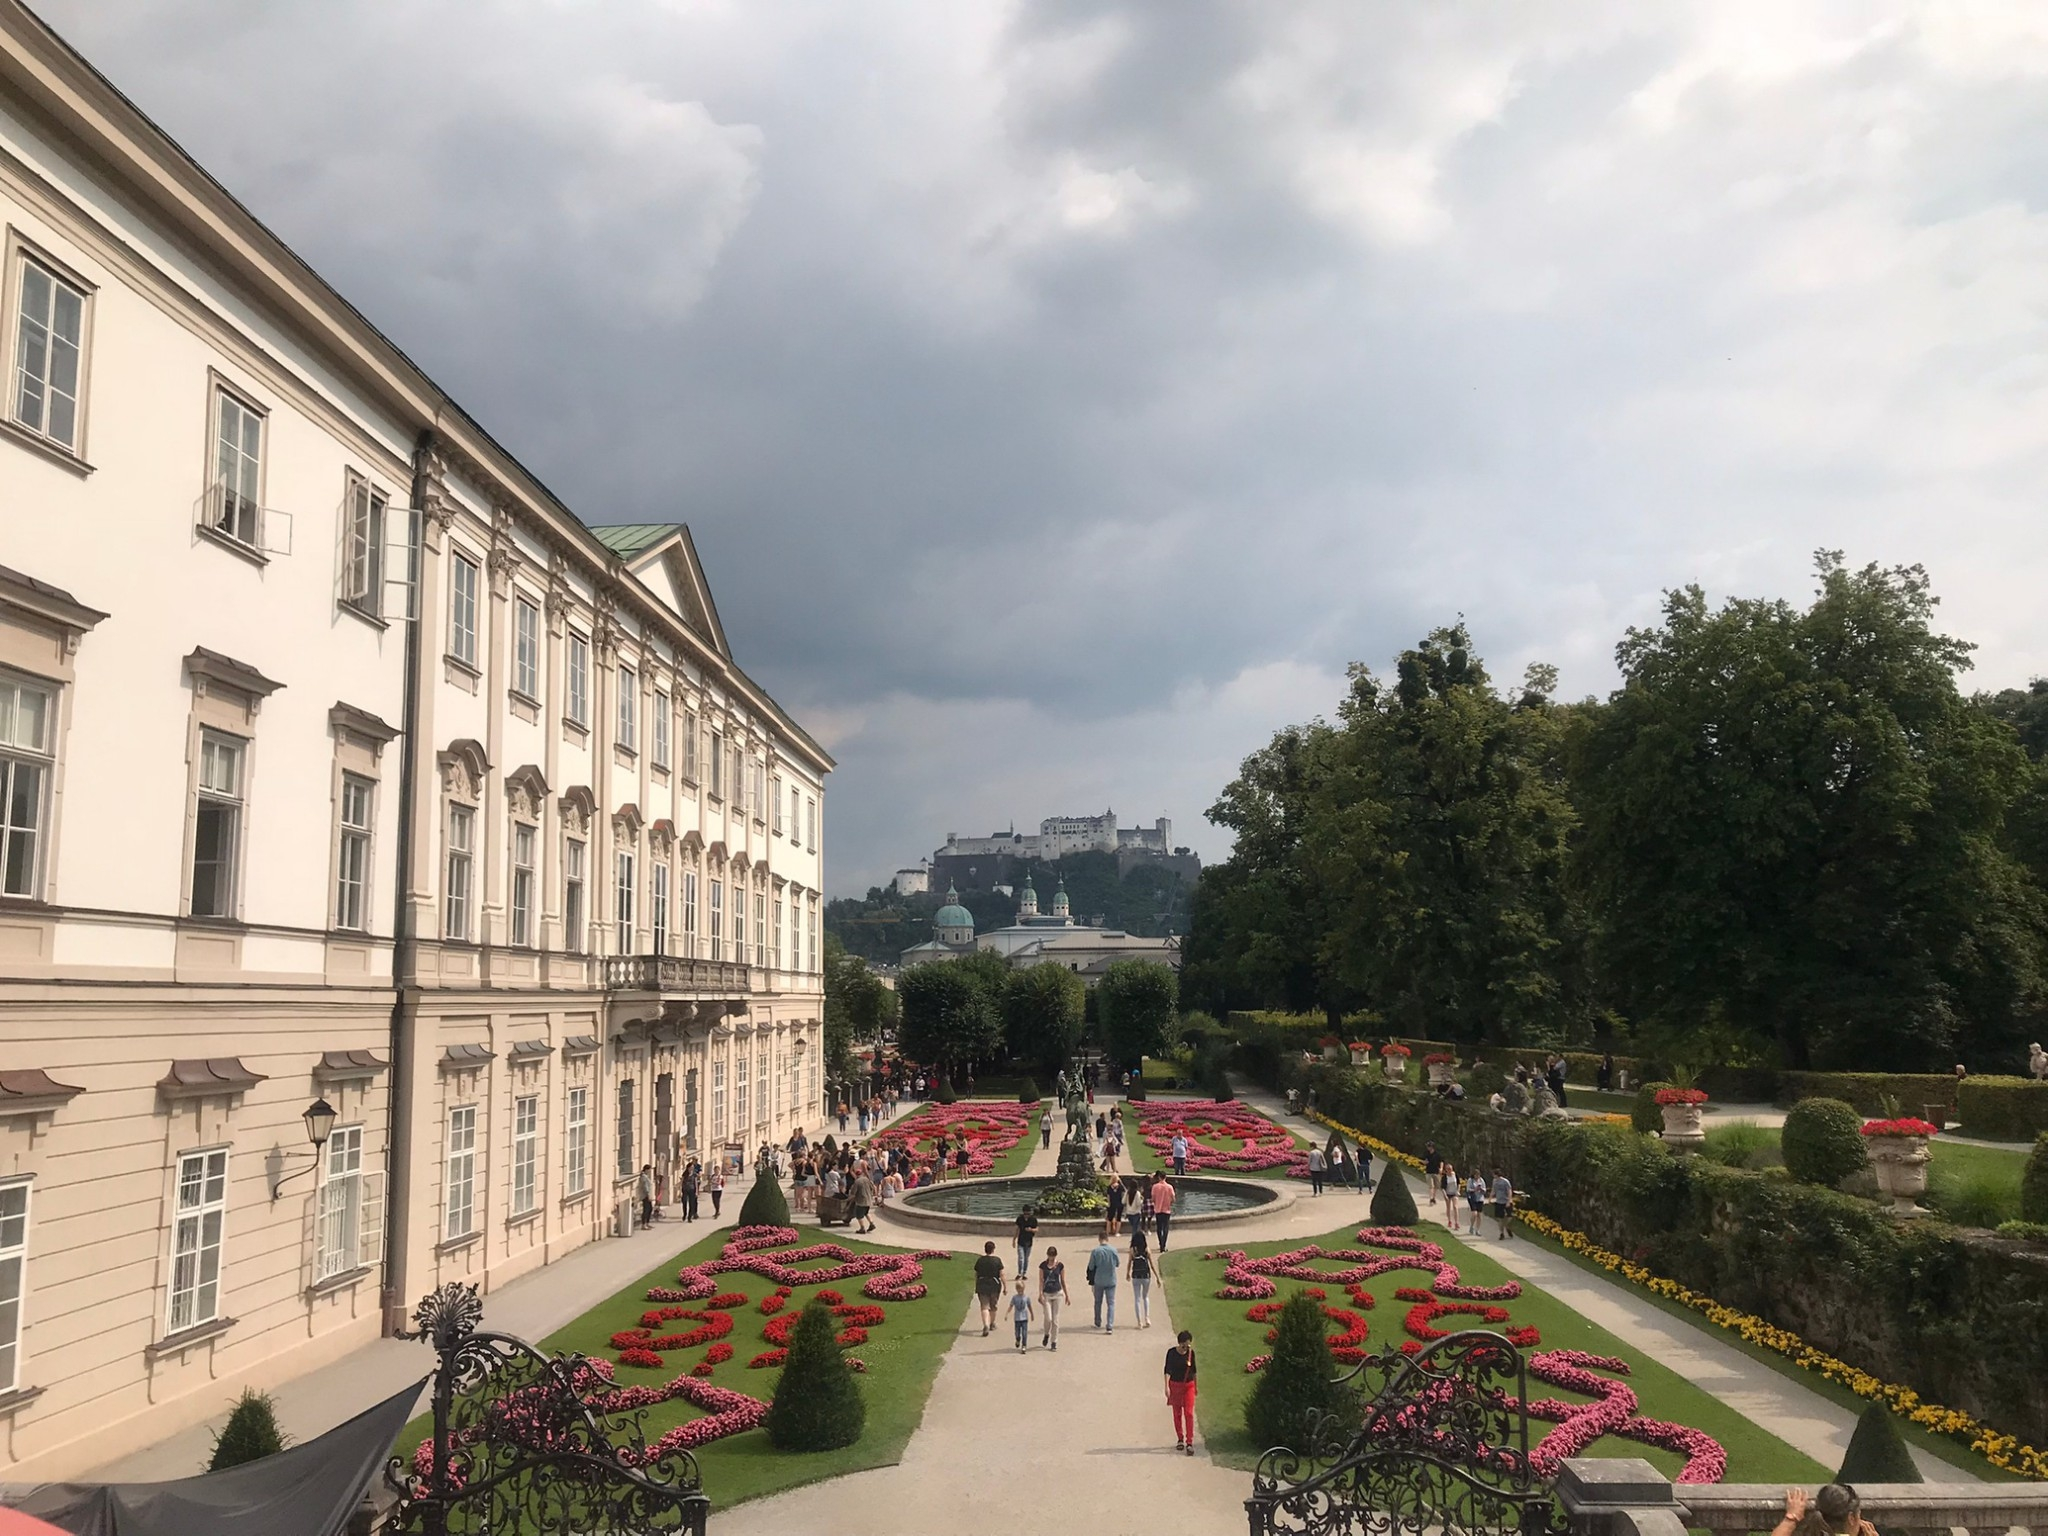people: (1163, 1328, 1210, 1446), (1146, 1169, 1184, 1266), (1090, 1231, 1122, 1337), (1040, 1249, 1072, 1349), (1128, 1222, 1160, 1322), (978, 1237, 1010, 1331), (1446, 1166, 1478, 1243), (1007, 1284, 1037, 1349), (1304, 1143, 1334, 1205)
